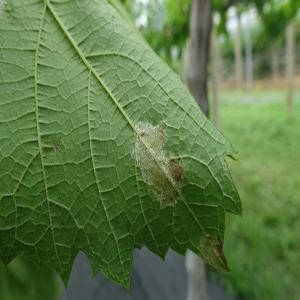Folha: (0, 0, 242, 292)
Fungo: (132, 119, 184, 207), (200, 228, 228, 272), (167, 158, 183, 182), (52, 140, 60, 154), (156, 129, 164, 141)
